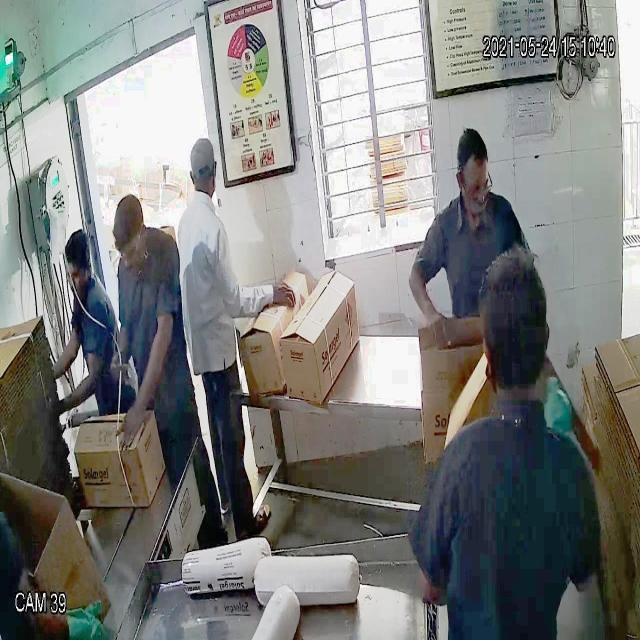glasses: (456, 173, 494, 207)
